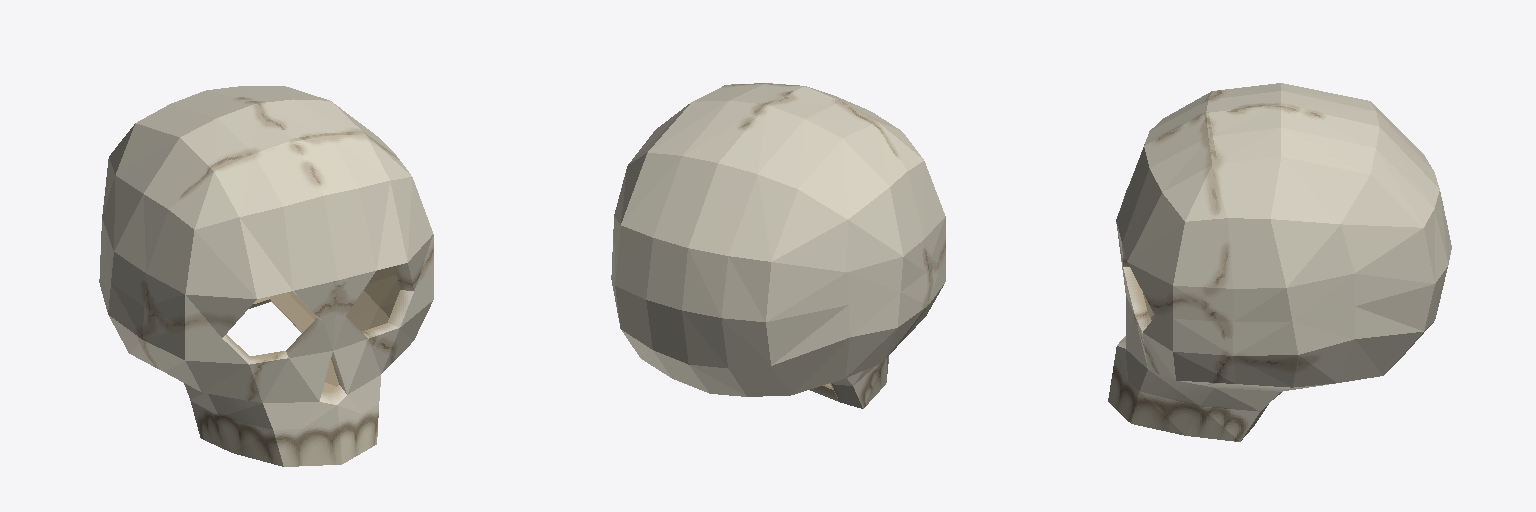
3 renders of one model, left to right at view 1: azimuth 30°, elevation 25°; view 2: azimuth 150°, elevation 25°; view 3: azimuth 270°, elevation 25°, orthographic.
Visible parts, largest first — view 1: pPlane3; view 2: pPlane3; view 3: pPlane3.
Boxes of the visible parts, <box> form: pPlane3: <box>99,86,433,466</box>; pPlane3: <box>611,83,945,408</box>; pPlane3: <box>1108,83,1451,441</box>.
Bounding box in the file's own units: 1.49 × 1.56 × 1.6.
1 materials, 1 textured.